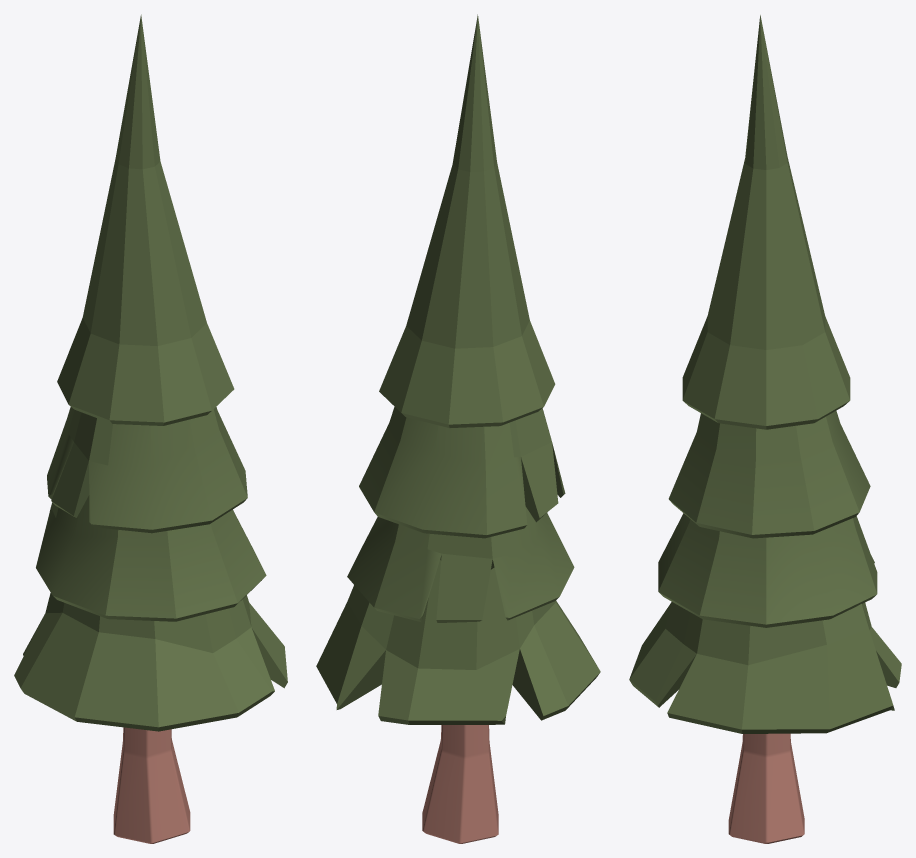
File: pine_tree_1_v1.fbx
3 renders of one model, left to right at view 1: azimuth 30°, elevation 25°; view 2: azimuth 150°, elevation 25°; view 3: azimuth 270°, elevation 25°, orthographic.
Parts seen in each view (by area): view 1: leaves_4, leaves_1, leaves_3, leaves_2, trunk; view 2: leaves_4, leaves_1, leaves_3, leaves_2, trunk; view 3: leaves_4, leaves_1, leaves_3, leaves_2, trunk.
Boxes of the visible parts, bbox=[...] form: leaves_4: bbox=[57, 14, 234, 425]; leaves_1: bbox=[14, 593, 287, 731]; leaves_3: bbox=[47, 406, 247, 533]; leaves_2: bbox=[36, 495, 266, 621]; trunk: bbox=[113, 727, 190, 843]; leaves_4: bbox=[379, 14, 555, 427]; leaves_1: bbox=[316, 560, 600, 724]; leaves_3: bbox=[359, 406, 565, 538]; leaves_2: bbox=[347, 507, 574, 622]; trunk: bbox=[422, 725, 498, 843]; leaves_4: bbox=[682, 15, 850, 429]; leaves_1: bbox=[629, 602, 901, 733]; leaves_3: bbox=[668, 410, 870, 538]; leaves_2: bbox=[658, 513, 877, 627]; trunk: bbox=[728, 733, 804, 843].
Bounding box in the file's own units: 4.23 × 13.78 × 4.2.
